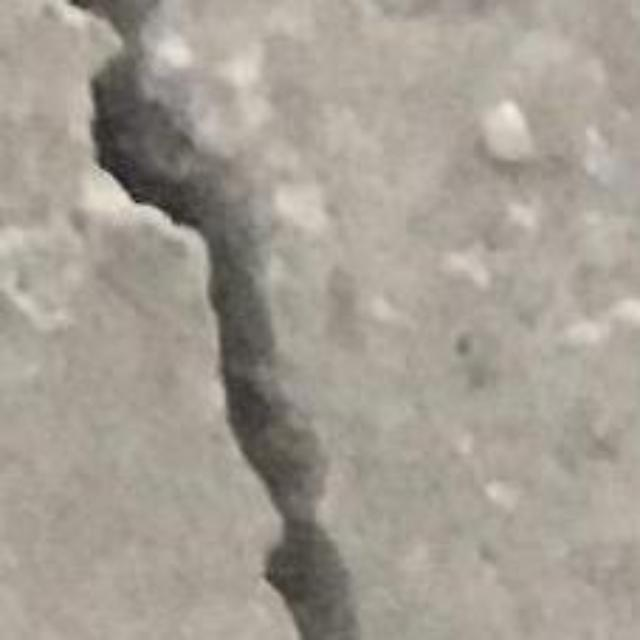crack: (71, 0, 360, 639)
